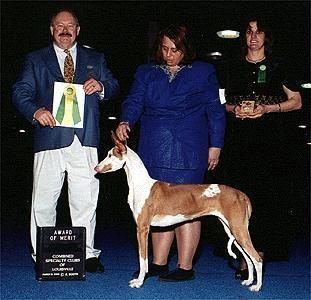Ibizan_hound: (92, 129, 262, 293)
